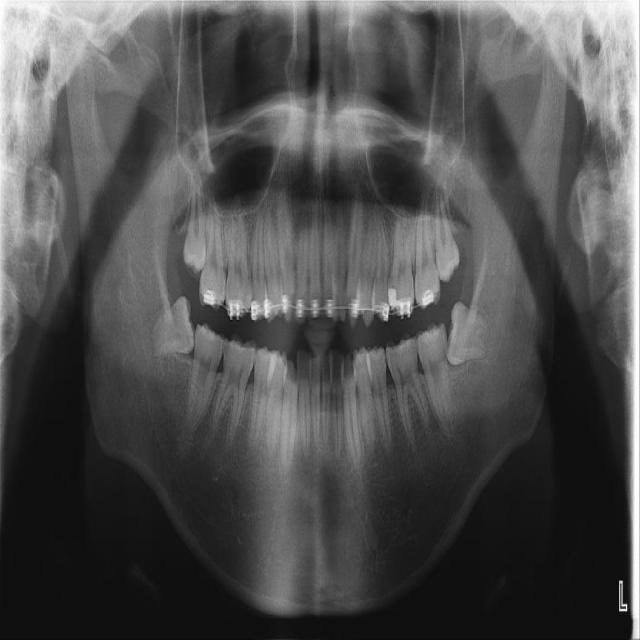3M ESPE Implant: (183, 176, 206, 276)
52: (387, 272, 415, 316)
73: (591, 557, 599, 573)
BioHorizons Implant: (406, 189, 443, 312)
BioLife Implant: (432, 182, 462, 283)
Biomet 3i Implant: (445, 301, 492, 368)
Blue Sky Bio Implant: (413, 317, 457, 438)
Caries: (197, 195, 235, 313)
Implant: (181, 321, 228, 438)
Keystone Dental Implant: (146, 296, 198, 358)
